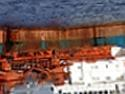rust: (5, 30, 118, 42)
